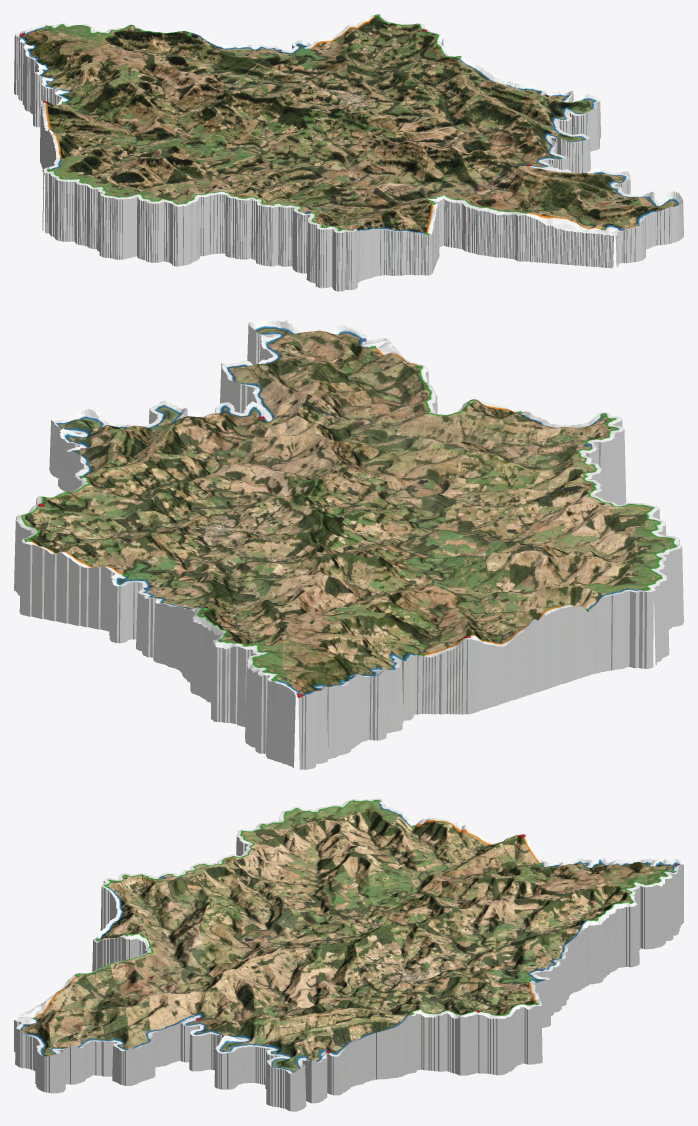
3 renders of one model, top to bottom at view 1: azimuth 30°, elevation 25°; view 2: azimuth 150°, elevation 25°; view 3: azimuth 270°, elevation 25°, orthographic. The views are drawn at different scales.
Size of the model in its own units: 1 by 0.1155 by 1.12.
1 material, 1 textured.
